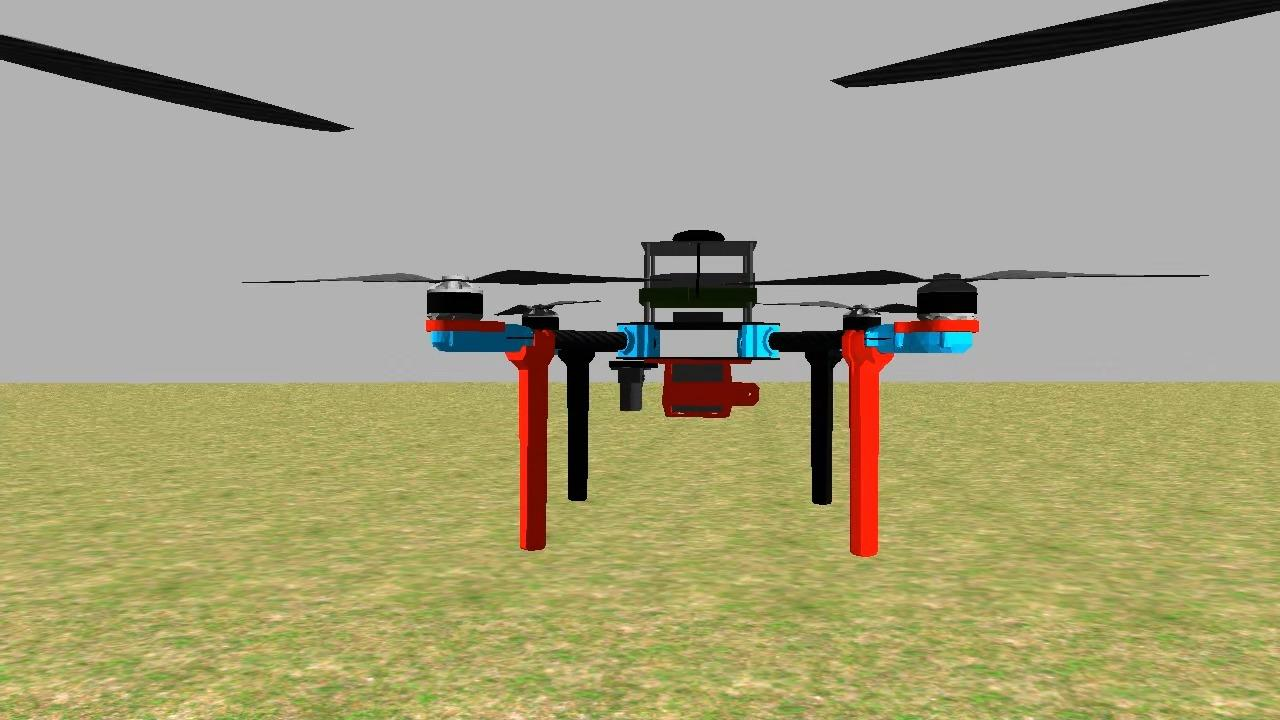UAV: (422, 209, 1000, 579)
